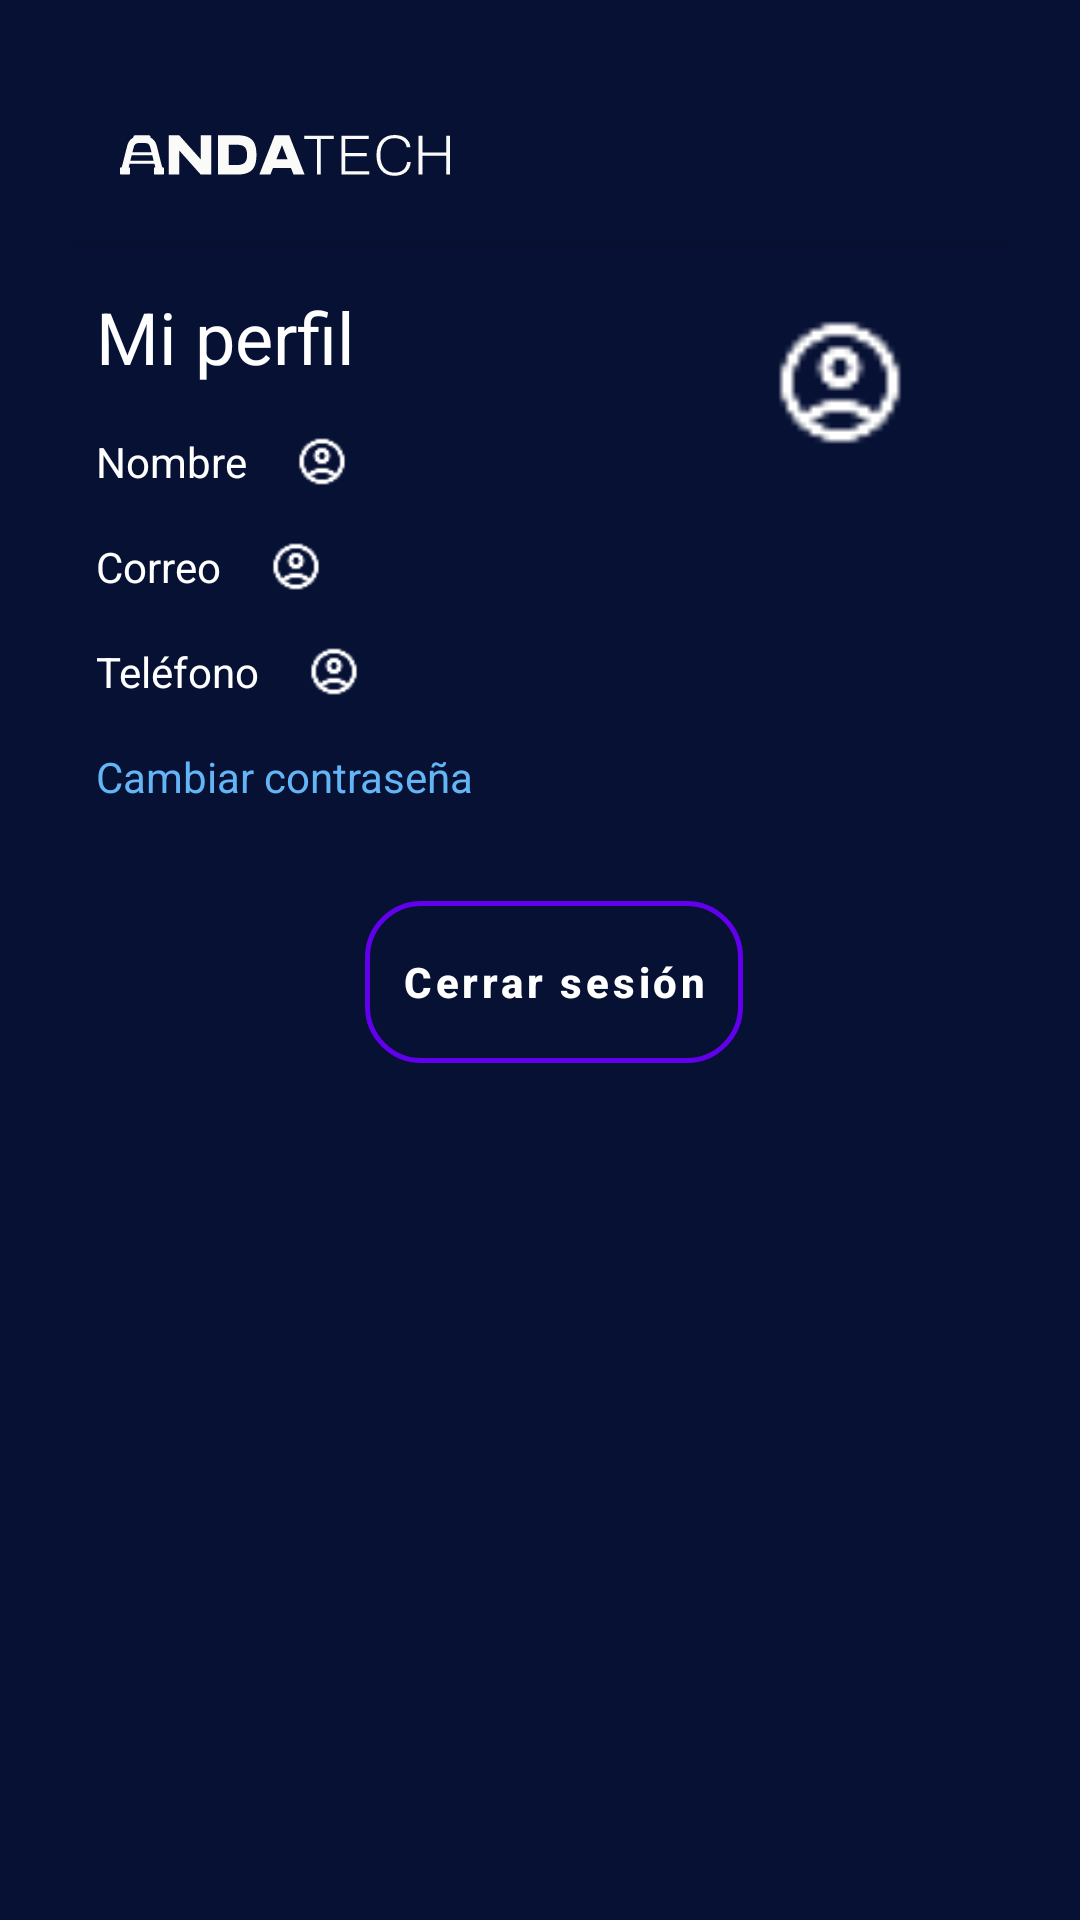

Icon bounding boxes for this 1080px×1920px phone screenshot, format bbox=[x1, y1, x2, y2]:
perfil blanco: bbox=[779, 321, 901, 444], bbox=[299, 438, 345, 485], bbox=[273, 543, 319, 590], bbox=[311, 648, 357, 695]
